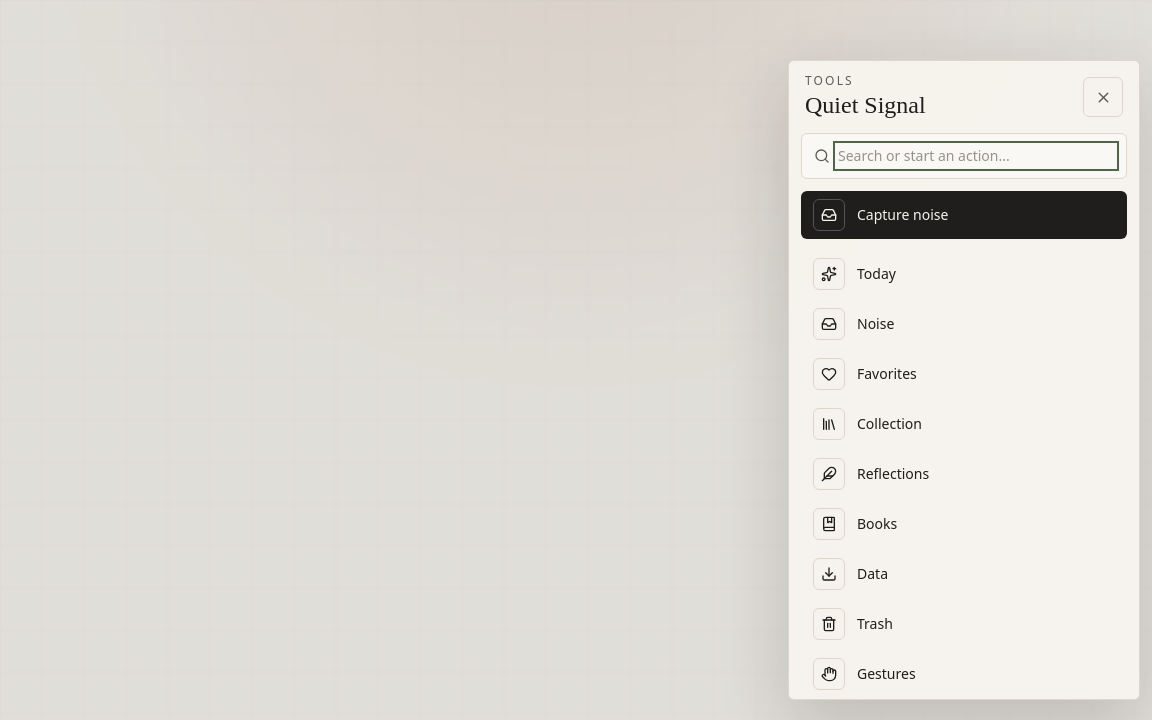
it: CommandDrawer › findet Einträge über Gedanken und listet Stille-Einträge mit, aber kein Rauschen
Type "nebel" into the field labelled "Search or start an action...".
click(976, 156); type("nebel")  # box [838,146,1114,166]
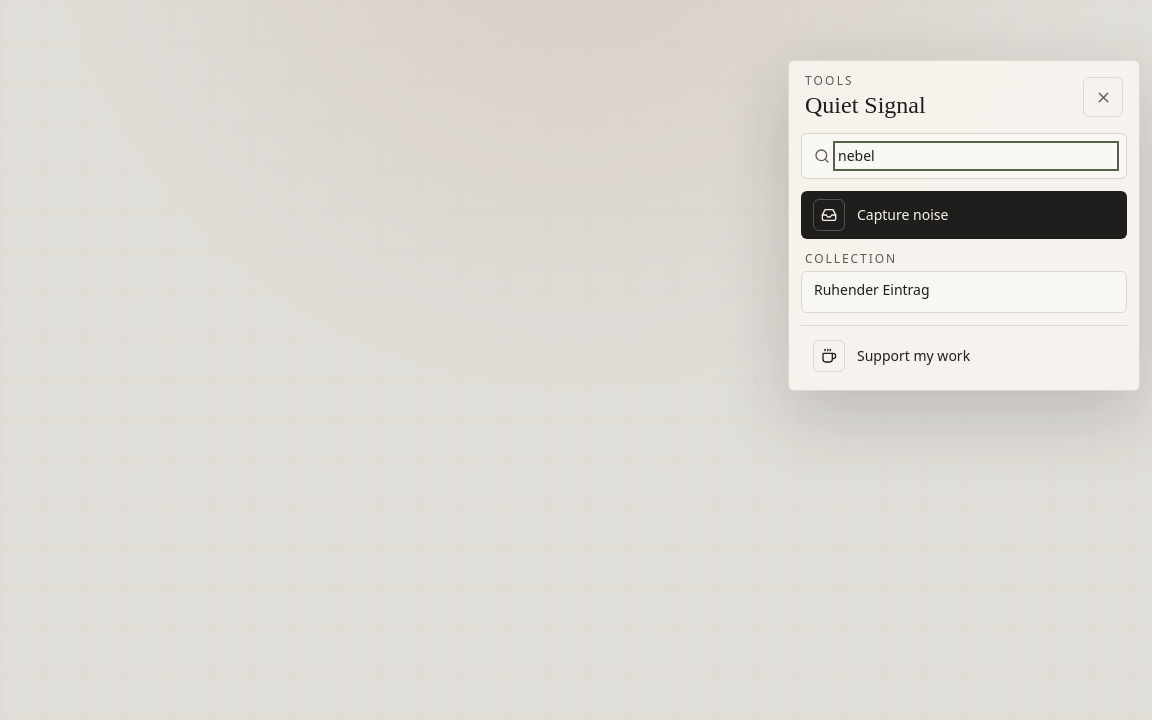
expect the text "Ruhender Eintrag" is shown: met, box [814,280,930,299]
